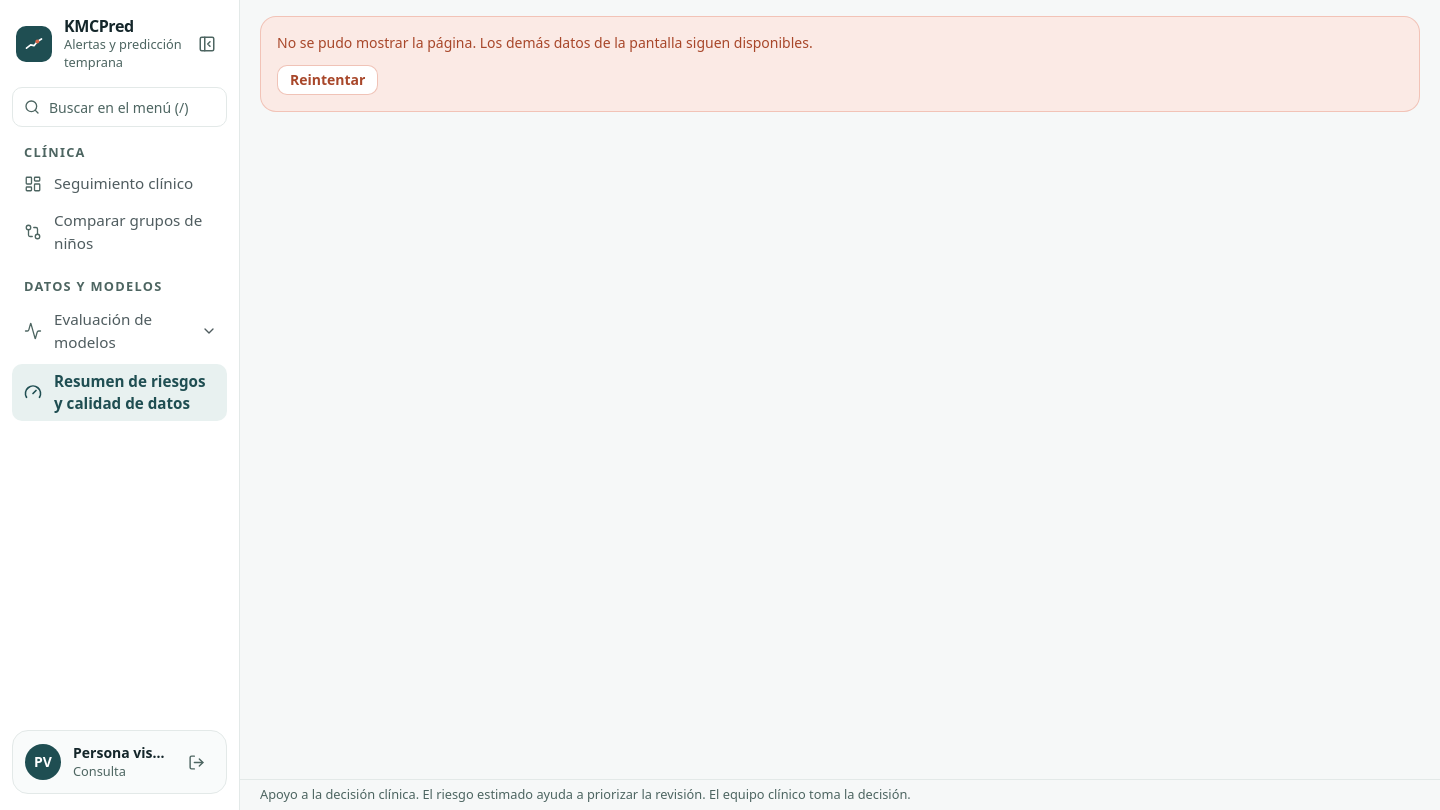
Test: Buscar en el menú › solo considera las opciones permitidas al rol y avisa si no hay coincidencias
The image size is (1440, 810).
In the search field with placeholder "Buscar en el menú (/)": point(120, 107) [12,87,227,127], type "usuarios"
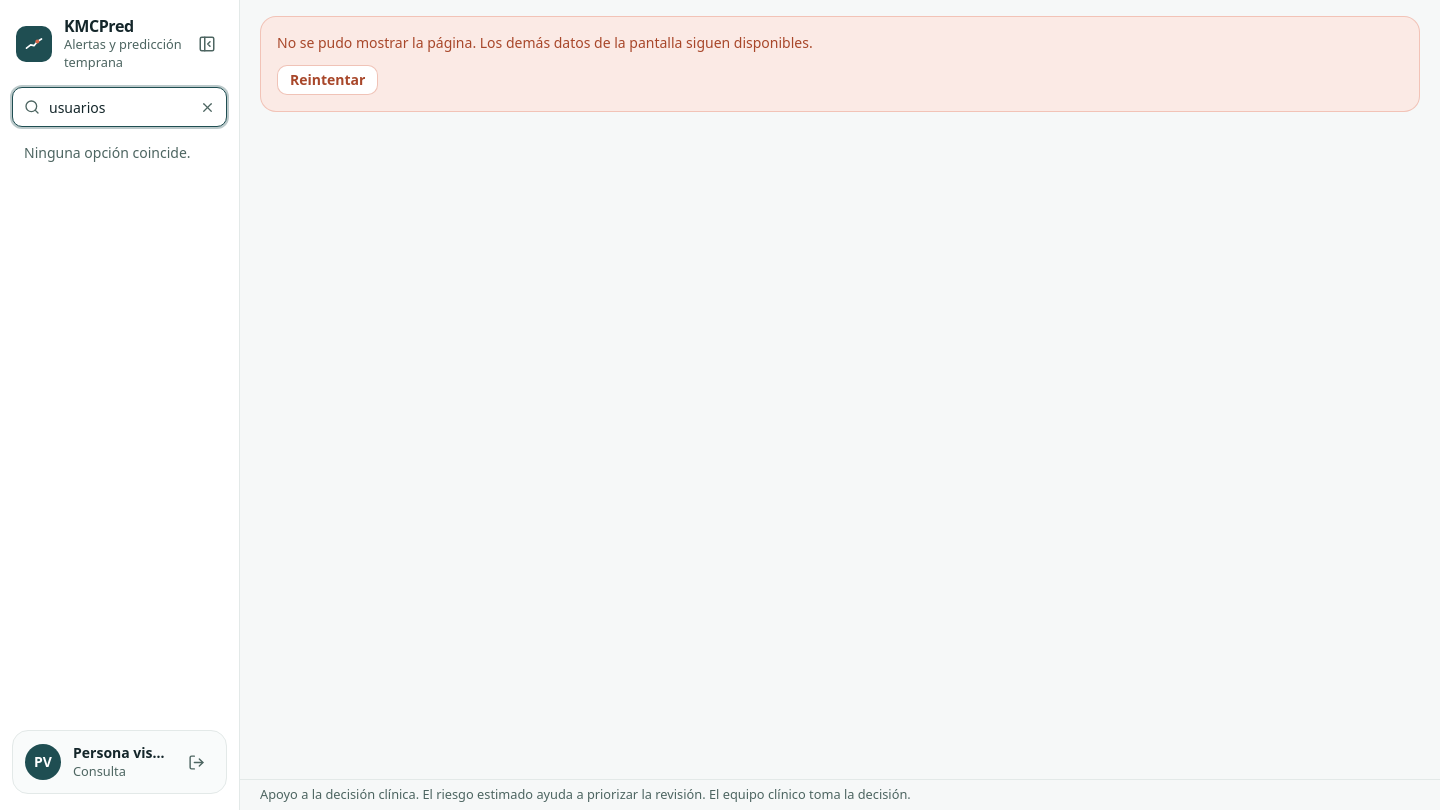
expect the text "Ninguna opción coincide." is shown: met, box [24,143,190,162]
